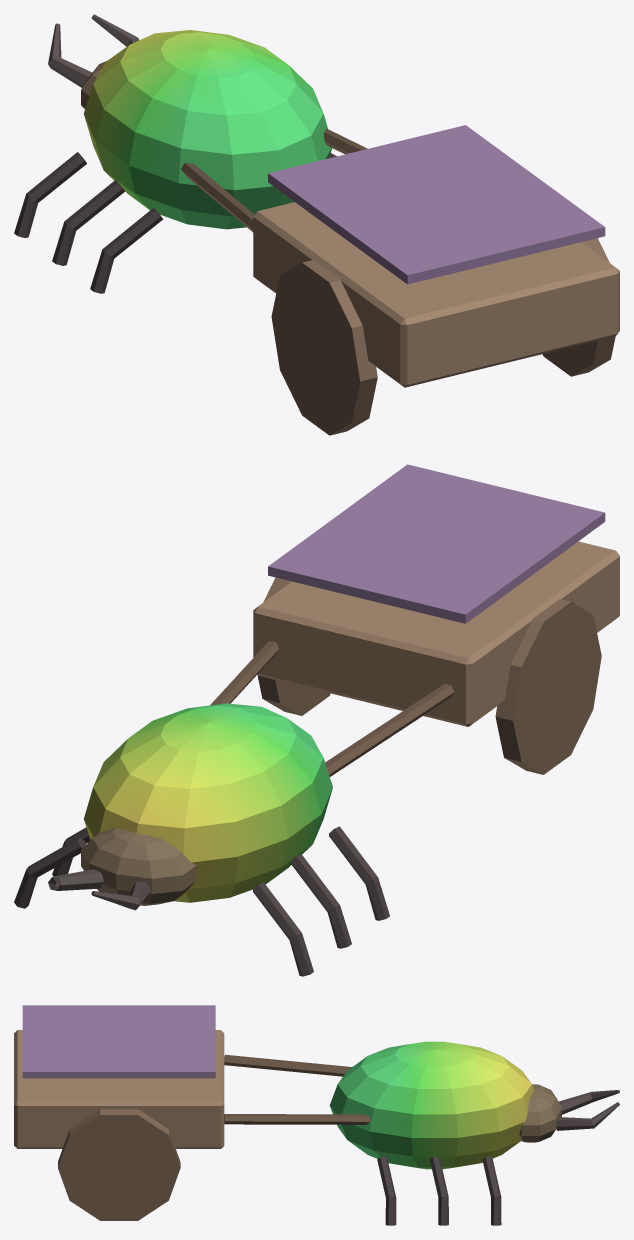
The model's file is BeetleCart.fbx.
The picture shows the model from 3 angles, top to bottom: view 1: azimuth 30°, elevation 25°; view 2: azimuth 150°, elevation 25°; view 3: azimuth 270°, elevation 25°; orthographic projection. The views are drawn at different scales.
Parts seen in each view (by area): view 1: Prop_BeetleCart; view 2: Prop_BeetleCart; view 3: Prop_BeetleCart.
Boxes of the visible parts, <box> form: Prop_BeetleCart: <box>14,14,619,435</box>; Prop_BeetleCart: <box>14,464,619,976</box>; Prop_BeetleCart: <box>14,1005,619,1225</box>.
Bounding box in the file's own units: 1.35 × 0.8782 × 3.46.
